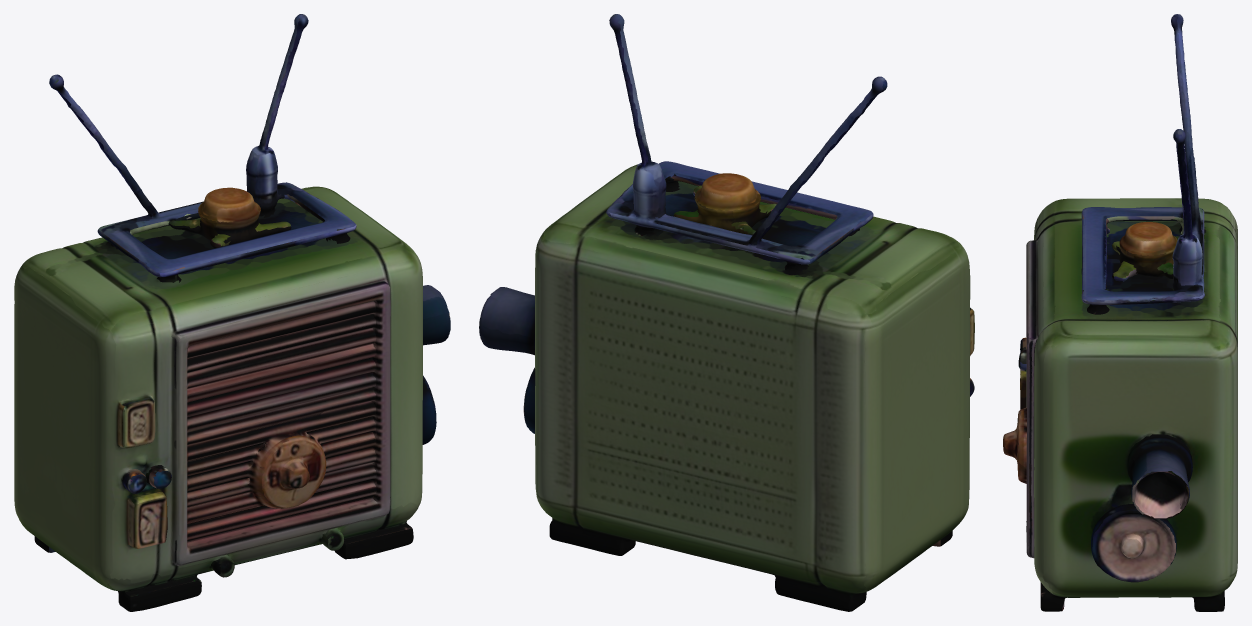
The model's file is radio_militar.glb.
3 renders of one model, left to right at view 1: azimuth 30°, elevation 25°; view 2: azimuth 150°, elevation 25°; view 3: azimuth 270°, elevation 25°, orthographic. The views are drawn at different scales.
Parts seen in each view (by area): view 1: tmpa22_m9xb.ply; view 2: tmpa22_m9xb.ply; view 3: tmpa22_m9xb.ply.
Part boxes in pixels (x1,y1,x2,y2): tmpa22_m9xb.ply: (14, 14, 450, 611); tmpa22_m9xb.ply: (479, 14, 974, 611); tmpa22_m9xb.ply: (1003, 14, 1237, 611).
Size of the model in its own units: 0.8279 by 0.9937 by 0.4509.
Materials: 1 (1 with a texture image).
